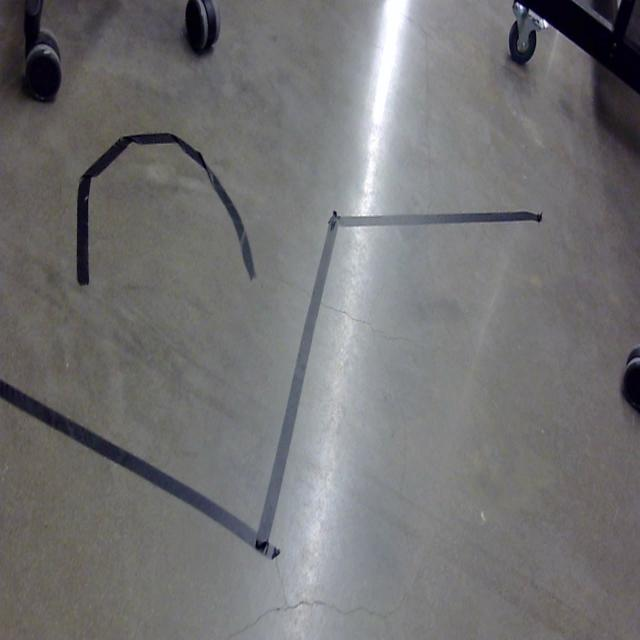tape: (0, 378, 282, 560), (306, 209, 544, 350), (256, 214, 344, 561), (73, 134, 248, 288)
